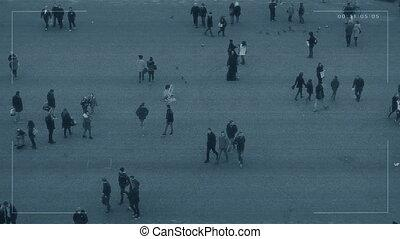person: (128, 174, 141, 222), (100, 176, 115, 215), (60, 107, 77, 140), (204, 127, 219, 164), (233, 130, 247, 169), (117, 166, 130, 207), (216, 130, 231, 164), (225, 120, 239, 156), (44, 108, 57, 145), (303, 30, 319, 60), (11, 90, 24, 126), (351, 73, 365, 105), (136, 101, 150, 131), (292, 72, 306, 101), (82, 109, 95, 140), (7, 51, 20, 81), (136, 53, 148, 84), (163, 104, 174, 137), (343, 18, 355, 48), (54, 4, 66, 32), (204, 11, 216, 39), (237, 39, 249, 67), (147, 55, 159, 83), (27, 120, 38, 150), (3, 201, 17, 224), (41, 4, 52, 33), (352, 19, 363, 47), (66, 7, 78, 32), (215, 15, 228, 38), (47, 88, 58, 114), (329, 76, 340, 102), (191, 1, 201, 28), (73, 207, 88, 224), (268, 0, 279, 23), (296, 1, 306, 25), (233, 0, 243, 23), (200, 3, 208, 29), (317, 62, 326, 85), (286, 2, 295, 23), (228, 0, 235, 24)
